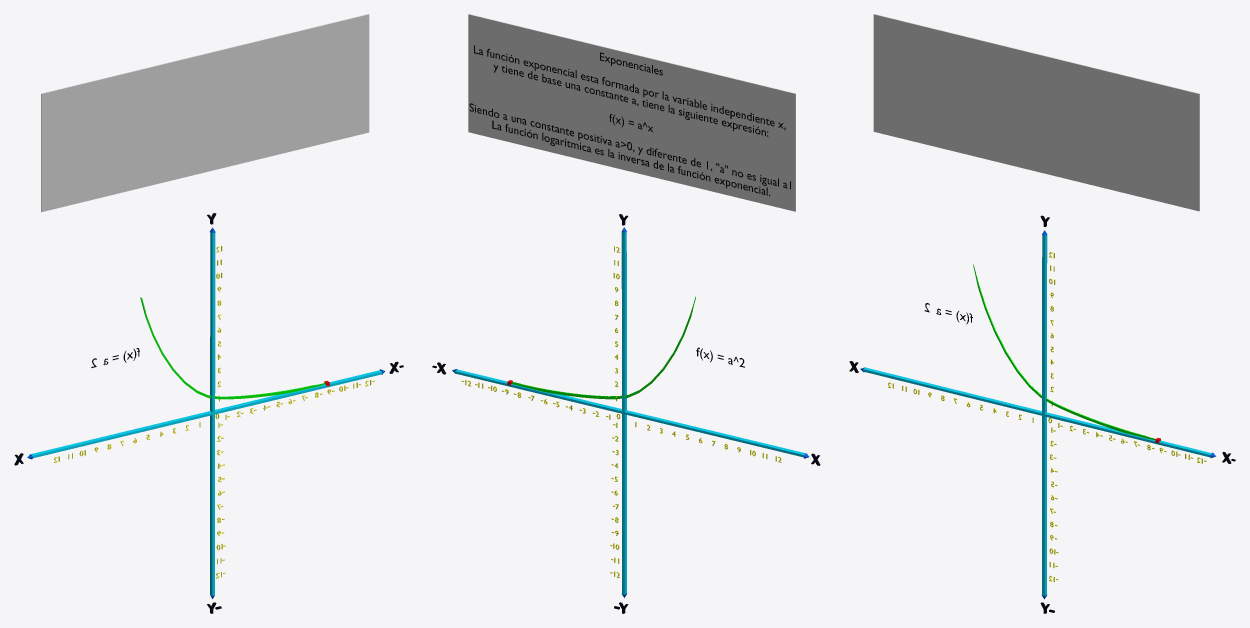
File: tras-f-exponencial.fbx
The picture shows the model from 3 angles, left to right: view 1: azimuth 30°, elevation 25°; view 2: azimuth 150°, elevation 25°; view 3: azimuth 330°, elevation 25°; orthographic projection.
Visible parts, largest first — view 1: Cubo.005, Cubo.001, Cubo, Surface.002; view 2: Cubo.005, Text.025, Cubo.001, Cubo, Surface.002; view 3: Cubo.005, Cubo.001, Cubo, Surface.002.
Part boxes in pixels (x1,y1,x2,y2): Cubo.005: (41, 14, 369, 212); Cubo.001: (210, 232, 215, 595); Cubo: (29, 370, 382, 458); Surface.002: (140, 297, 325, 399); Cubo.005: (468, 14, 795, 211); Text.025: (469, 45, 790, 196); Cubo.001: (621, 232, 626, 594); Cubo: (455, 369, 805, 457); Surface.002: (511, 296, 695, 399); Cubo.005: (873, 14, 1199, 211); Cubo.001: (1042, 235, 1047, 595); Cubo: (862, 367, 1211, 457); Surface.002: (973, 264, 1155, 439).
Bounding box in the file's own units: 599 × 829 × 8.65.
